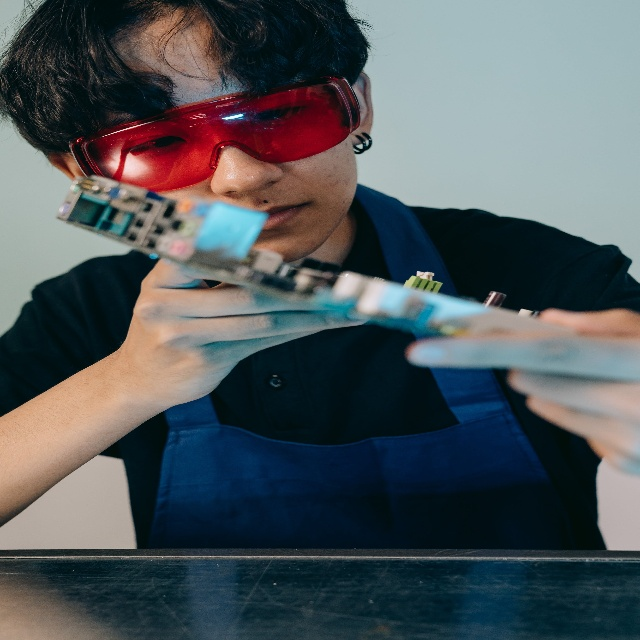Gafas: (66, 68, 361, 196)
Sin_guantes: (406, 300, 640, 476), (126, 259, 301, 402)
